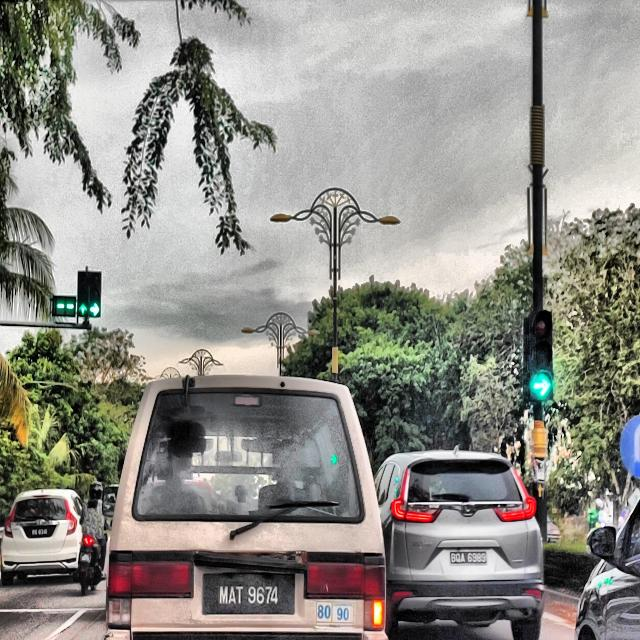green: (527, 311, 554, 405), (76, 273, 90, 316), (89, 272, 102, 318)
